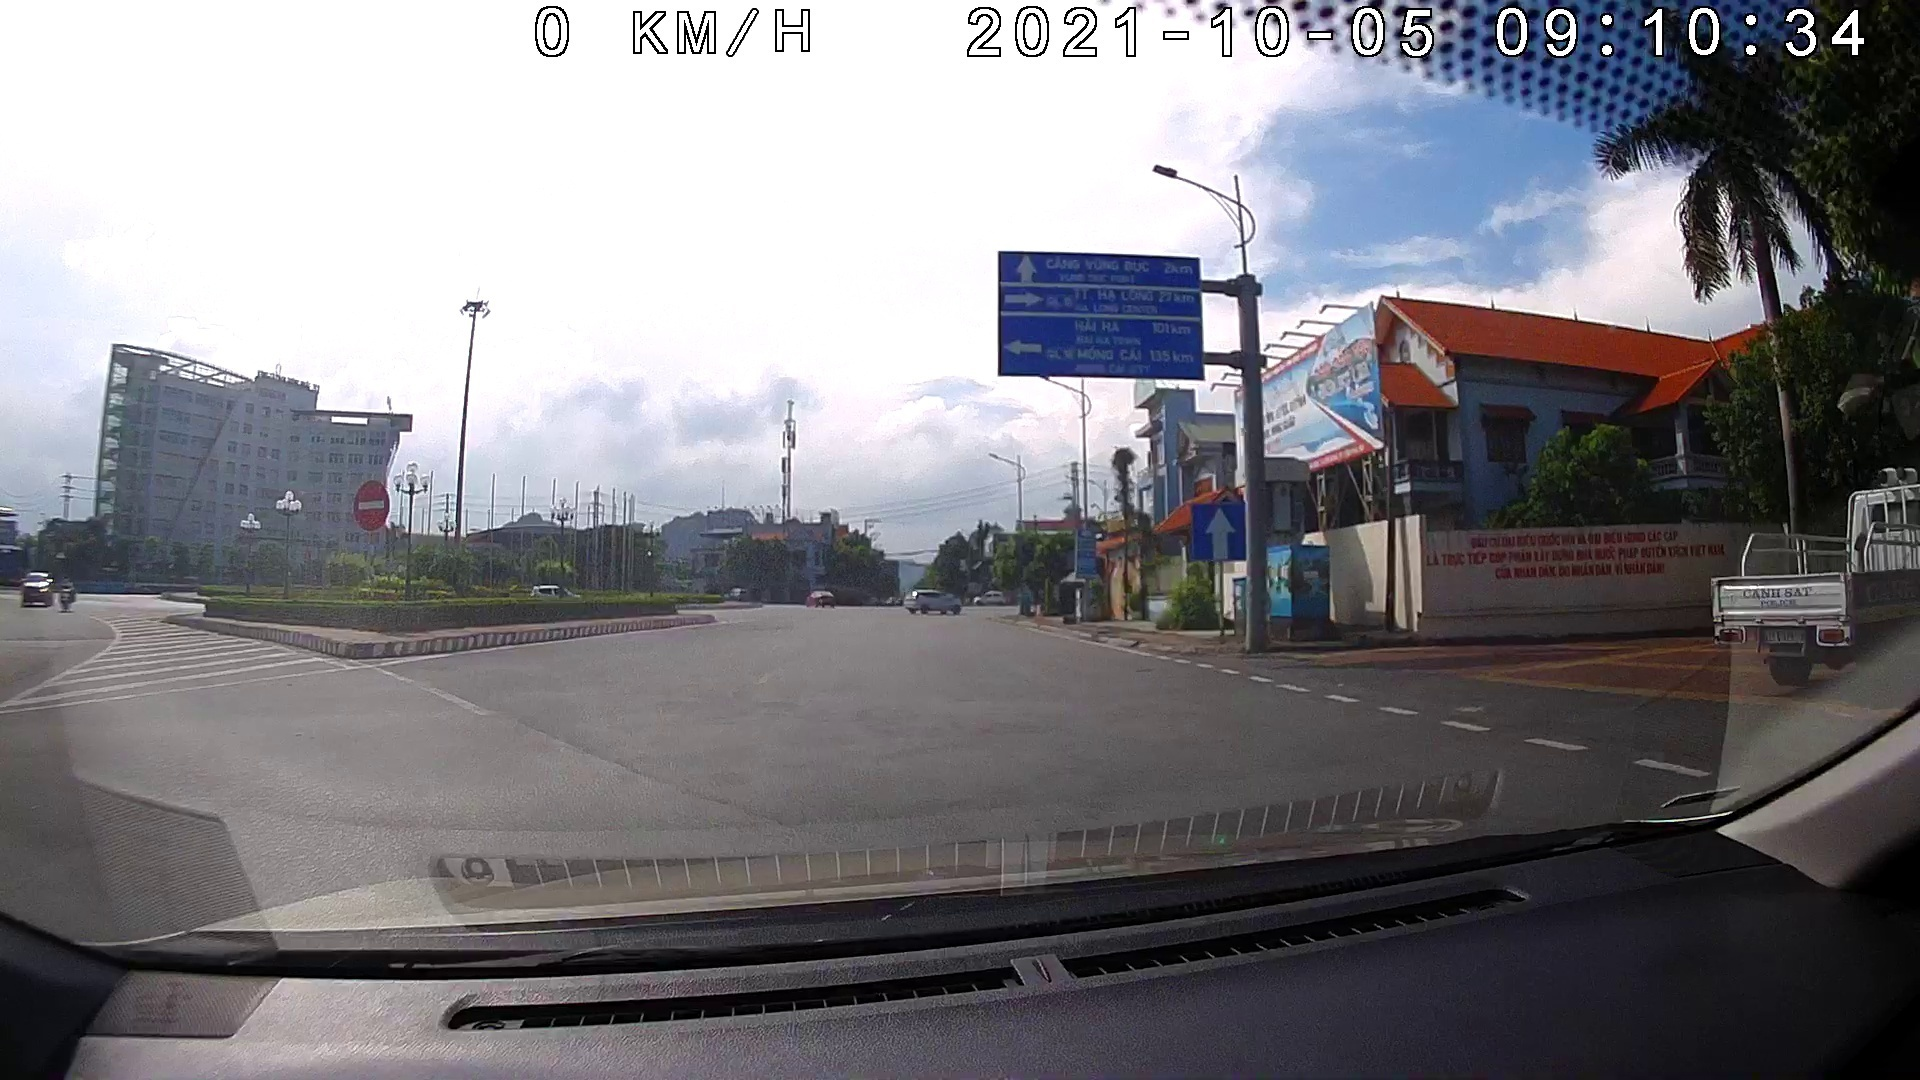Bien khac: (1184, 498, 1246, 566)
Cam di nguoc chieu: (351, 480, 390, 531)
